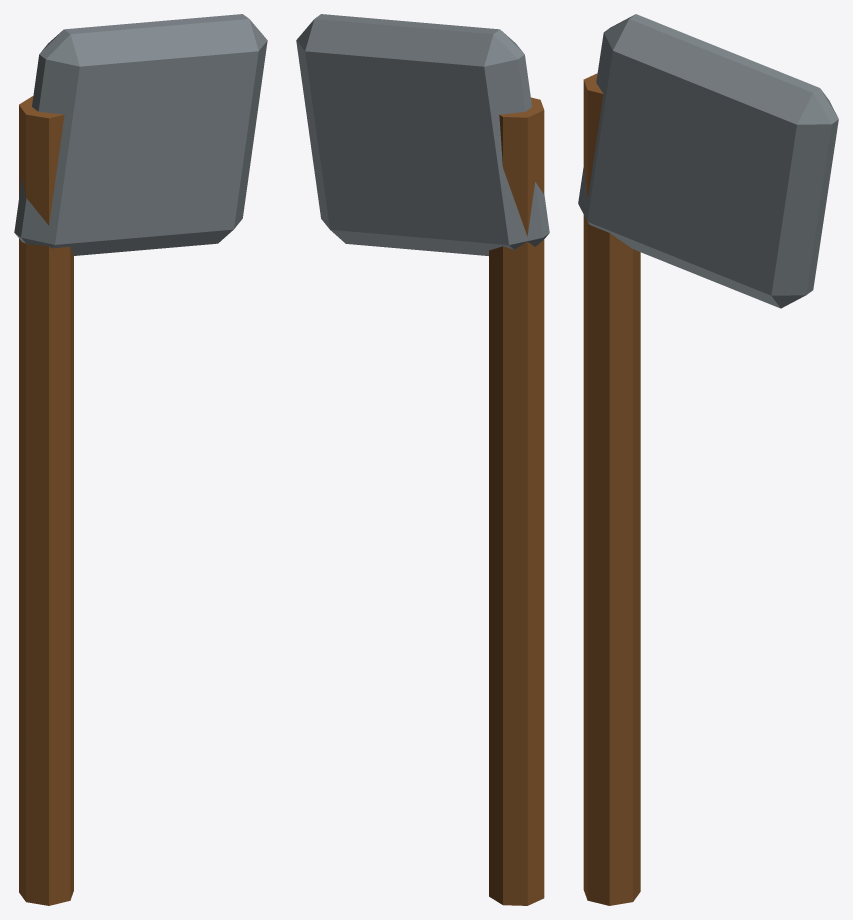
Rendered from pieza-villager-axe-PiKKTt85.glb.
3 renders of one model, left to right at view 1: azimuth 30°, elevation 25°; view 2: azimuth 150°, elevation 25°; view 3: azimuth 330°, elevation 25°, orthographic. The views are drawn at different scales.
Visible parts, largest first — view 1: prop_axe; view 2: prop_axe; view 3: prop_axe.
Boxes of the visible parts, x1,y1,x2,y2 form: prop_axe: (14, 14, 267, 905); prop_axe: (296, 14, 549, 905); prop_axe: (578, 14, 838, 905).
Bounding box in the file's own units: 1.7 × 5.66 × 0.38.
